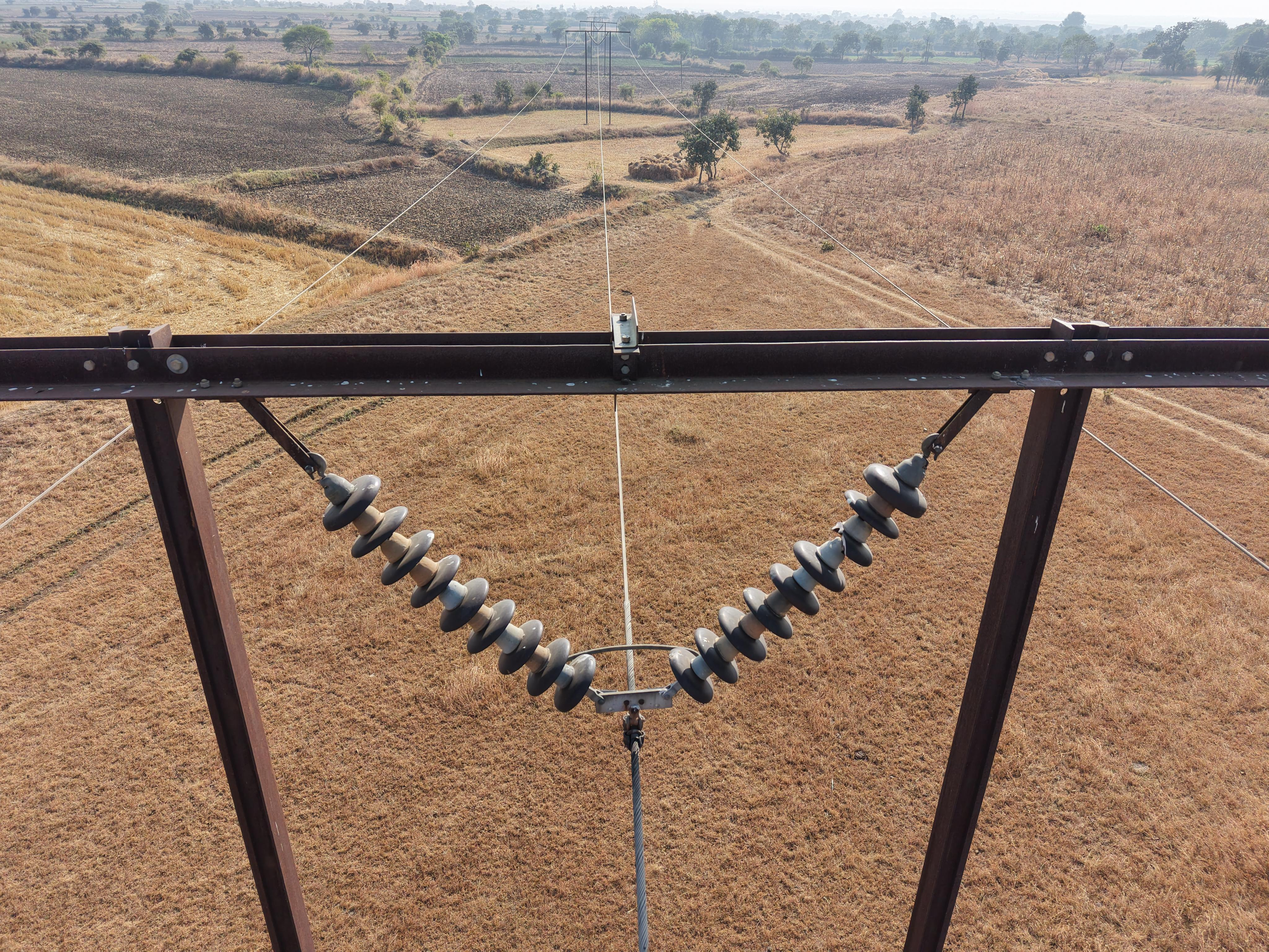broken_insulator: (831, 516, 874, 567)
